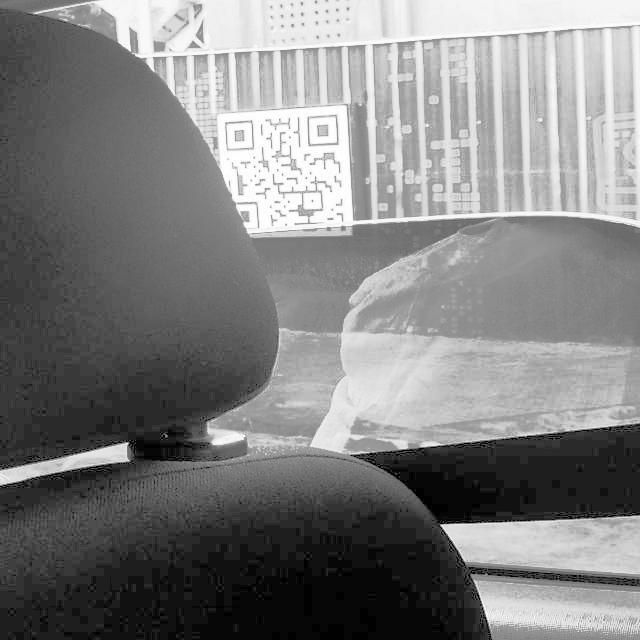qr_code: (224, 114, 347, 232)
